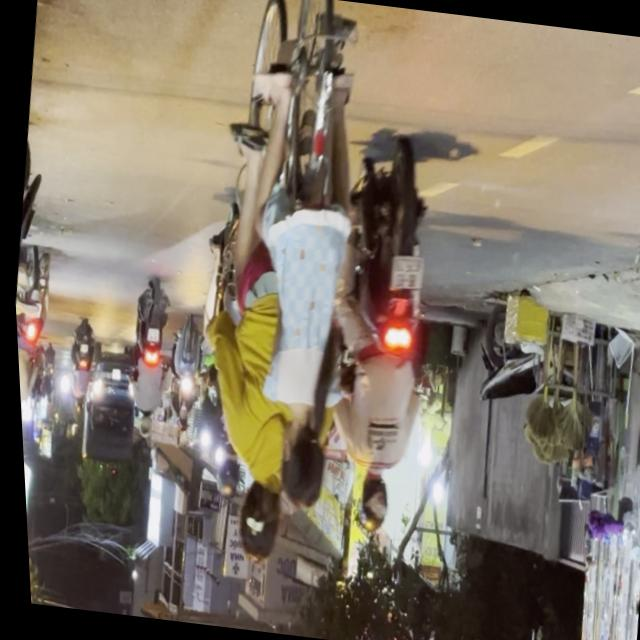helmet: (350, 471, 389, 534)
licenseplate: (301, 137, 455, 539)
nohelmet: (386, 255, 421, 292)
